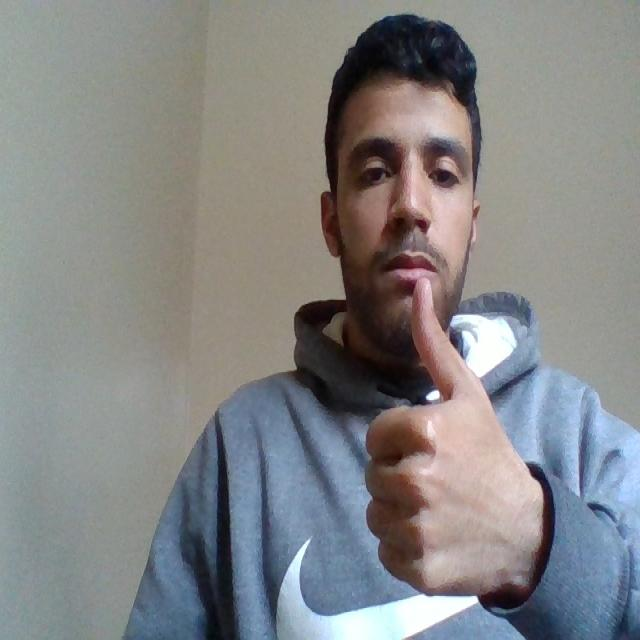Yes: (364, 278, 570, 598)
